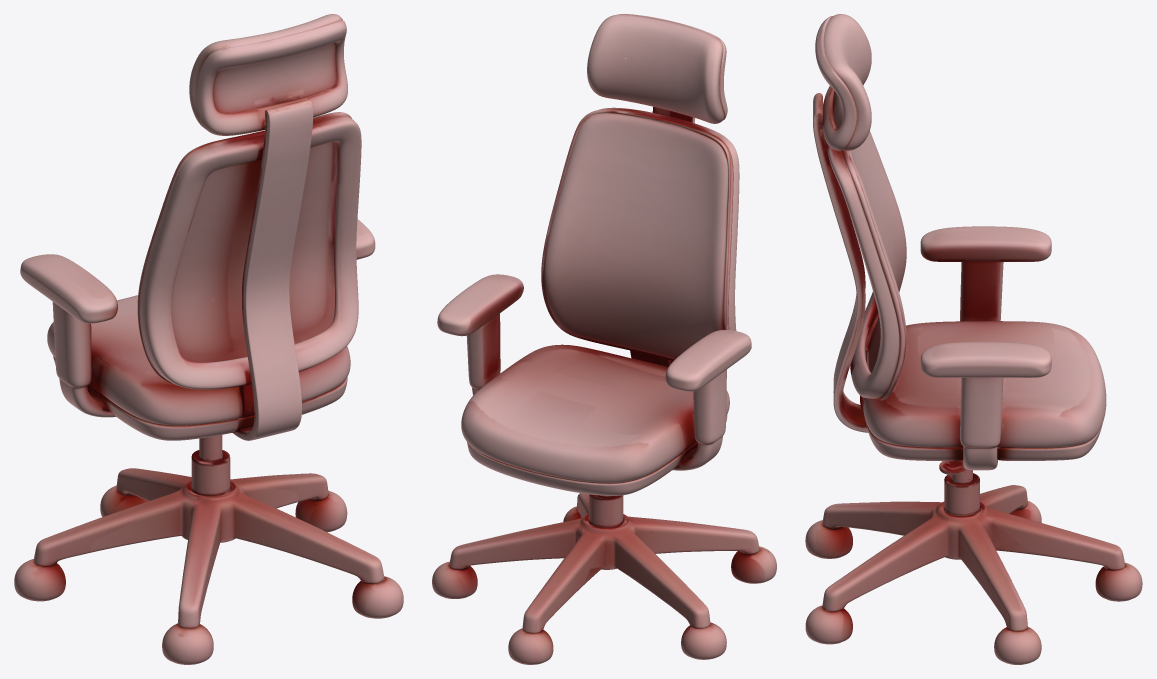
Rendered from SM_F_Chair_02.glb.
The picture shows the model from 3 angles, left to right: view 1: azimuth 30°, elevation 25°; view 2: azimuth 150°, elevation 25°; view 3: azimuth 270°, elevation 25°; orthographic projection. The views are drawn at different scales.
Visible parts, largest first — view 1: SM_F_Chair_02; view 2: SM_F_Chair_02; view 3: SM_F_Chair_02.
Boxes of the visible parts, box(x1,y1,x2,y2) form: SM_F_Chair_02: box(14, 14, 403, 664); SM_F_Chair_02: box(432, 14, 776, 664); SM_F_Chair_02: box(805, 14, 1142, 664).
Bounding box in the file's own units: 0.5749 × 1.01 × 0.558.
Materials: 1 (1 with a texture image).
